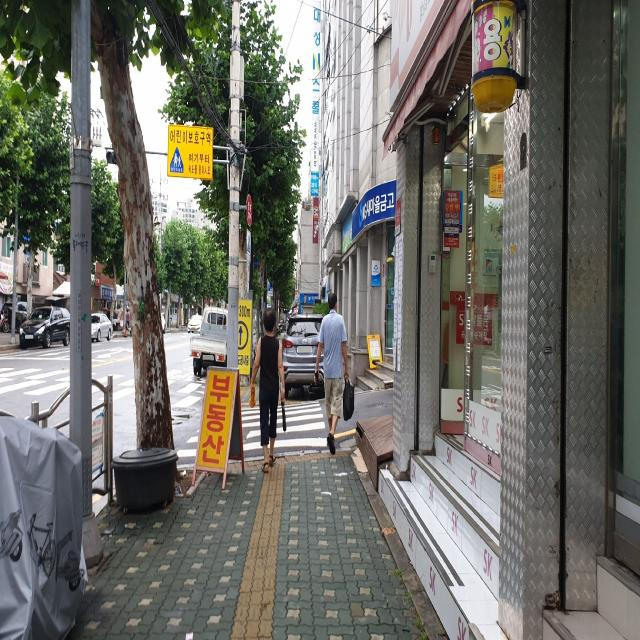car: (282, 312, 324, 398), (189, 306, 228, 376)
motorbike: (0, 310, 10, 333)
